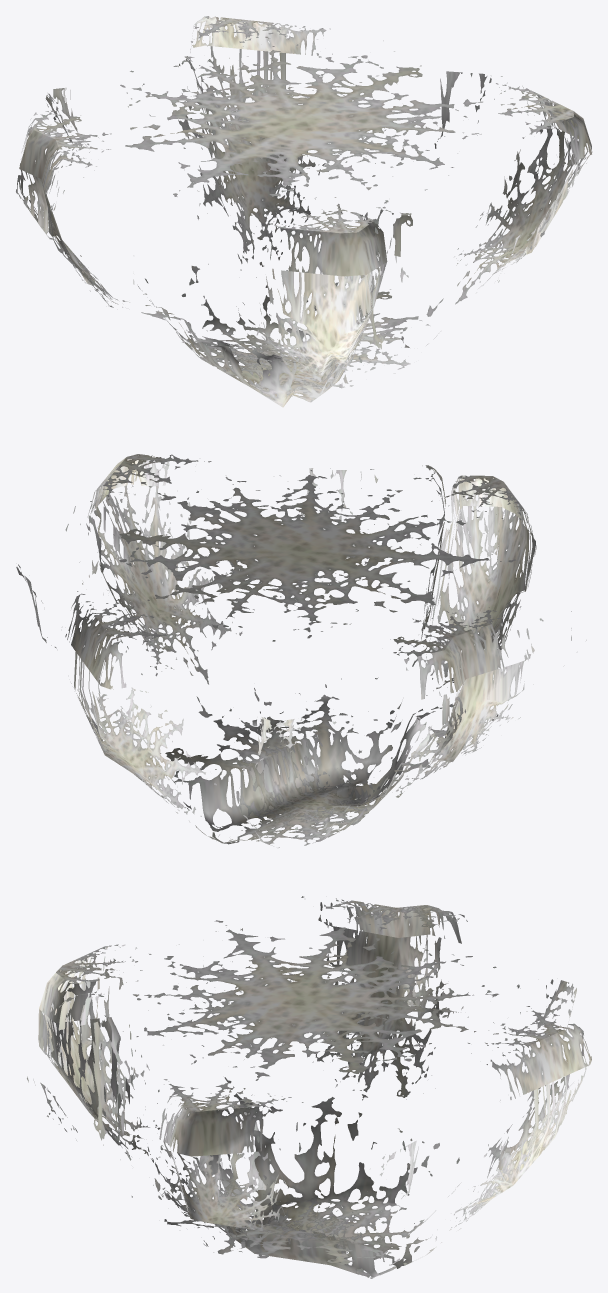
The model's file is songbird_fusion_projectileweb.glb.
3 renders of one model, top to bottom at view 1: azimuth 30°, elevation 25°; view 2: azimuth 150°, elevation 25°; view 3: azimuth 270°, elevation 25°, orthographic. The views are drawn at different scales.
Parts seen in each view (by area): view 1: songbird_fusion_projectileweb_1, songbird_fusion_projectileweb_0; view 2: songbird_fusion_projectileweb_1, songbird_fusion_projectileweb_0; view 3: songbird_fusion_projectileweb_1, songbird_fusion_projectileweb_0.
Part boxes in pixels (left/top/right/bottom): songbird_fusion_projectileweb_1: left=16, top=16, right=592, bottom=395; songbird_fusion_projectileweb_0: left=120, top=36, right=482, bottom=407; songbird_fusion_projectileweb_1: left=16, top=454, right=586, bottom=833; songbird_fusion_projectileweb_0: left=79, top=468, right=515, bottom=847; songbird_fusion_projectileweb_1: left=27, top=896, right=591, bottom=1265; songbird_fusion_projectileweb_0: left=98, top=920, right=498, bottom=1278.
Size of the model in its own units: 95.79 by 47.18 by 95.16.
2 materials, 2 textured.
